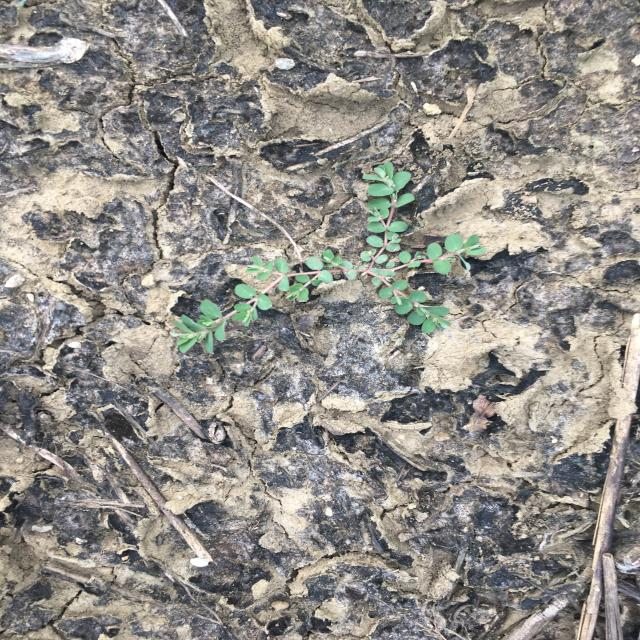SpottedSpurge: (165, 162, 488, 358)
